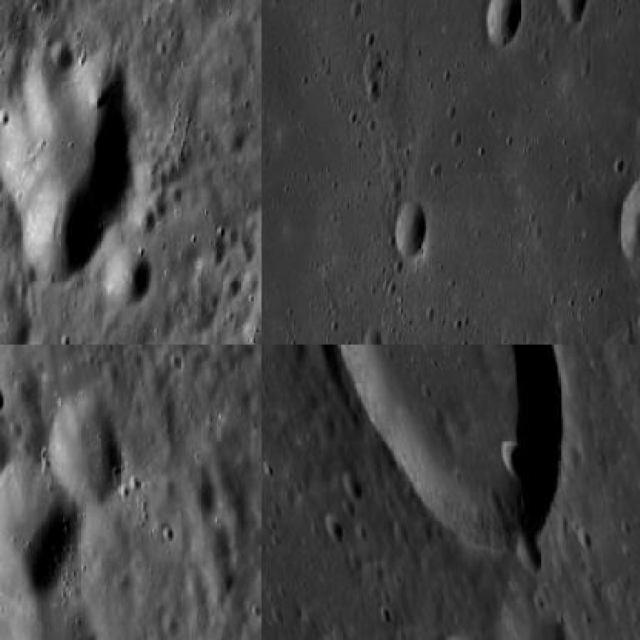crater: (308, 345, 564, 557), (0, 40, 132, 287), (0, 461, 78, 598), (46, 395, 117, 503), (103, 248, 151, 306), (394, 198, 424, 262), (509, 611, 580, 638), (617, 175, 638, 263), (484, 0, 522, 48), (517, 531, 540, 574), (556, 0, 590, 25)
